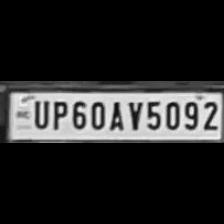0: (87, 97, 107, 130), (162, 97, 180, 130)
2: (198, 98, 220, 132)
5: (143, 98, 161, 132)
6: (68, 97, 86, 130)
9: (180, 97, 198, 130)
A: (106, 98, 124, 132)
P: (49, 97, 67, 130)
U: (31, 98, 50, 130)
V: (124, 98, 142, 132)
